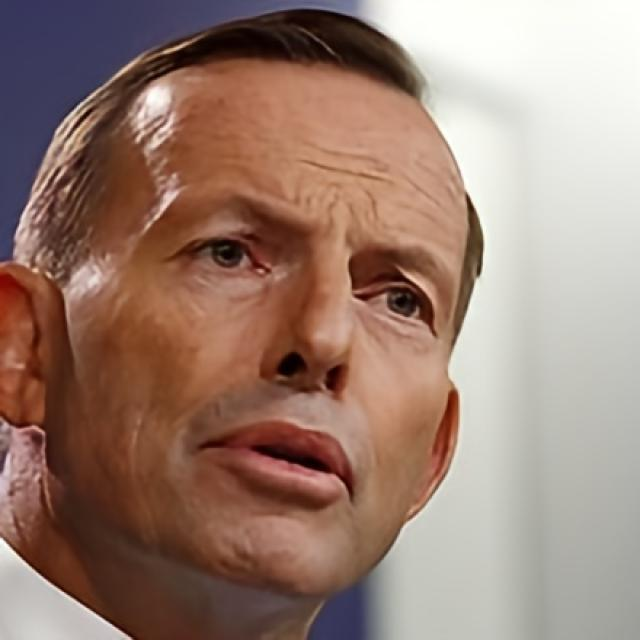anger: (59, 56, 457, 584)
